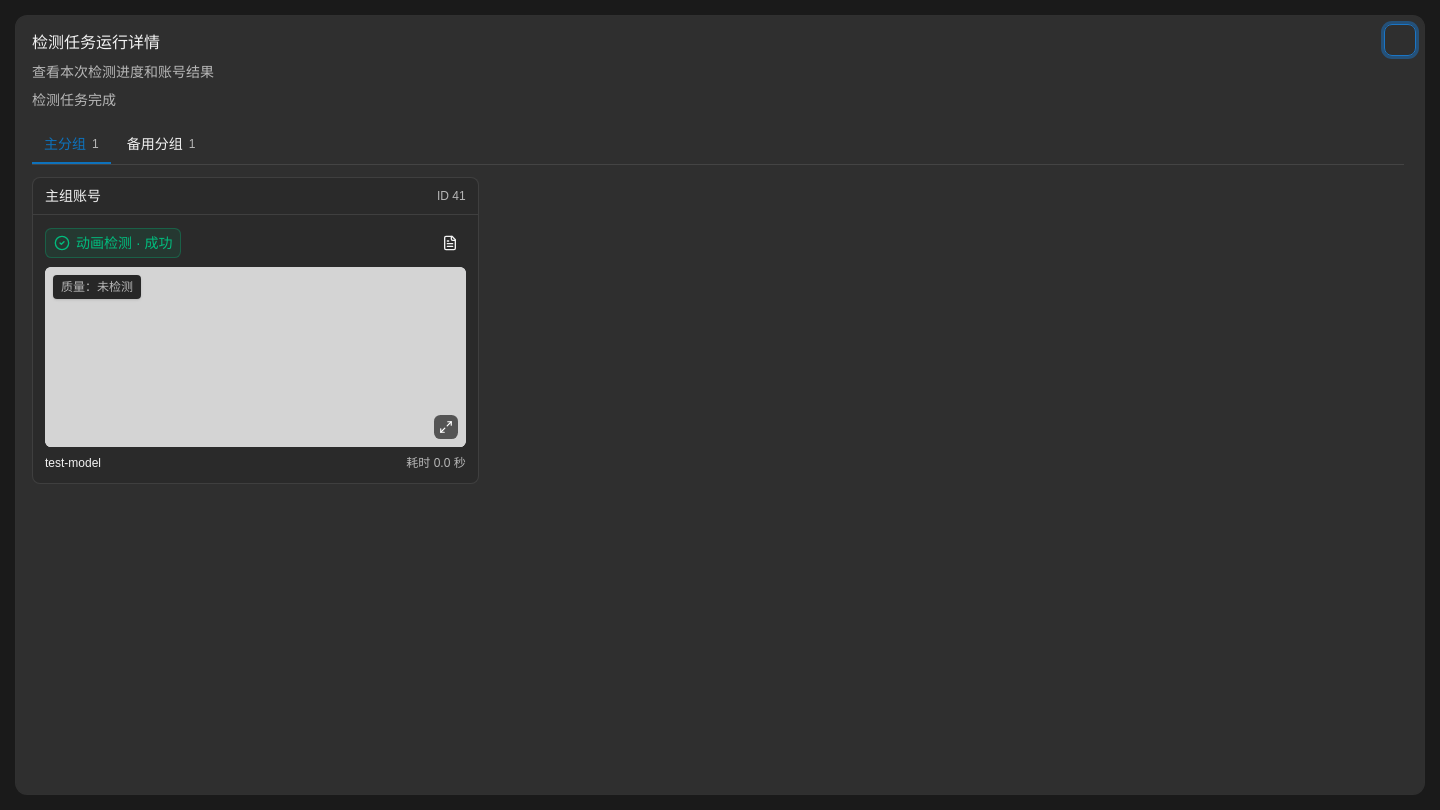
Scenario: 后台刷新检测结果后保留用户当前选择的分组
Click the tab "备用分组 1".
click(161, 145)  # box [115,126,207,164]
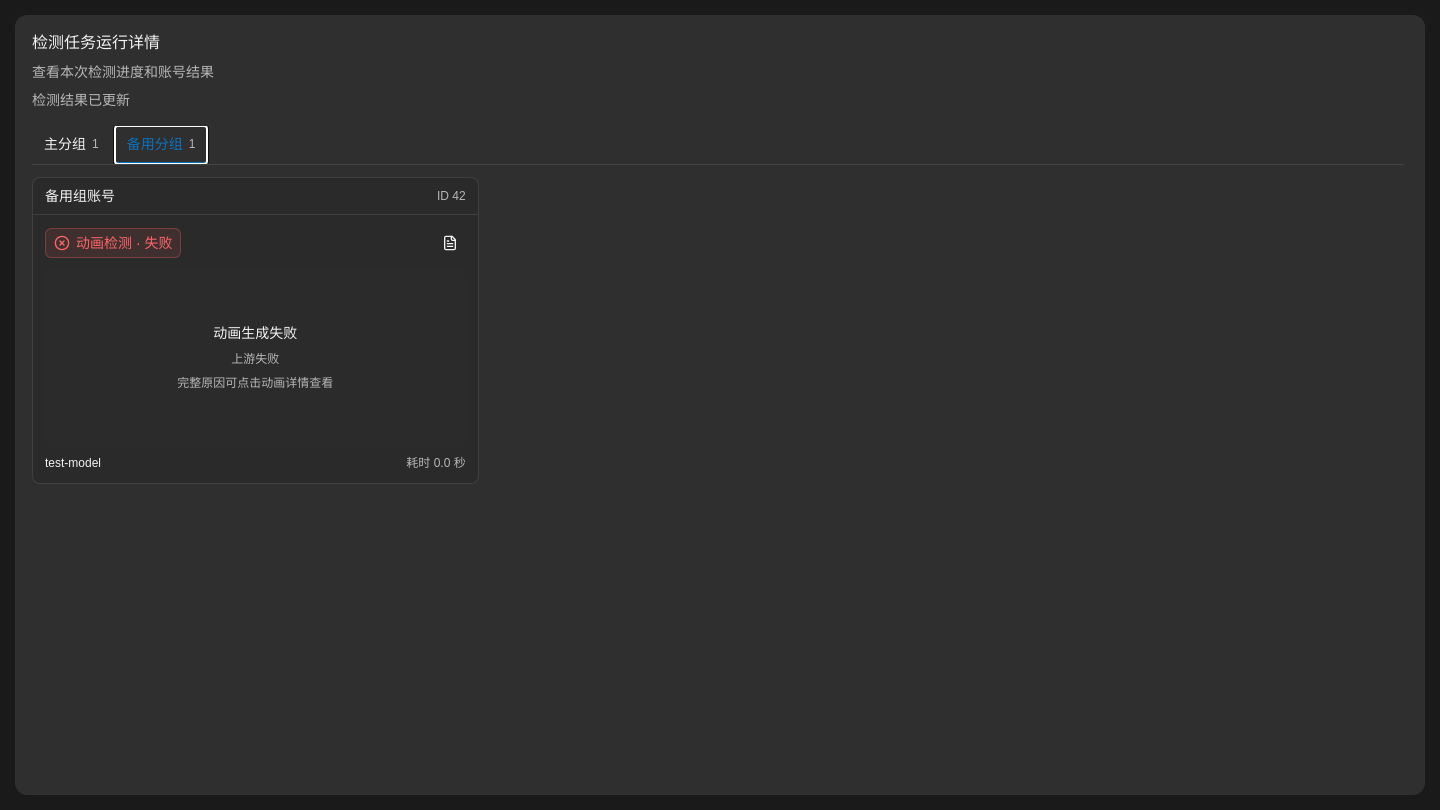
Check: the text "检测结果已更新" is shown, box [32,92,130,108]
Check: the element named "检测账号 备用组账号" shows "备用组账号", box [45,188,115,204]
